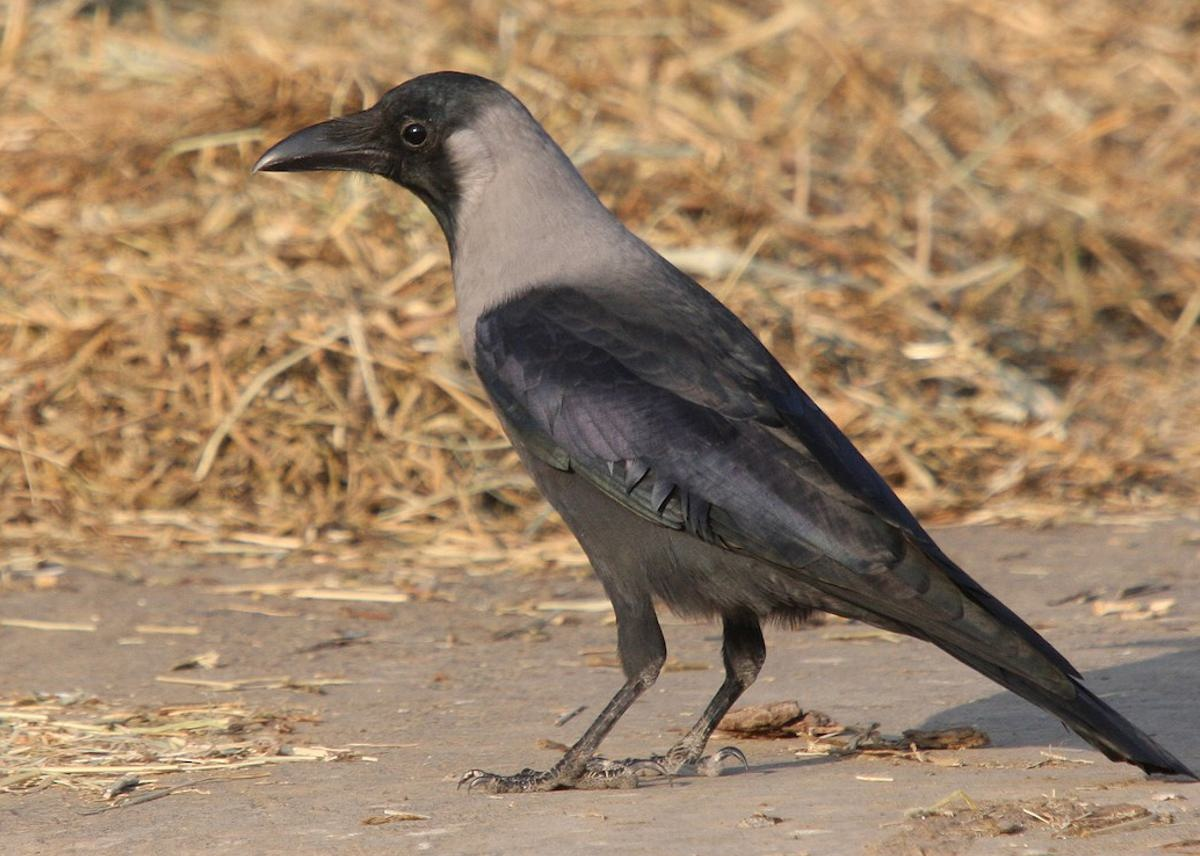crow: (271, 74, 1100, 806)
